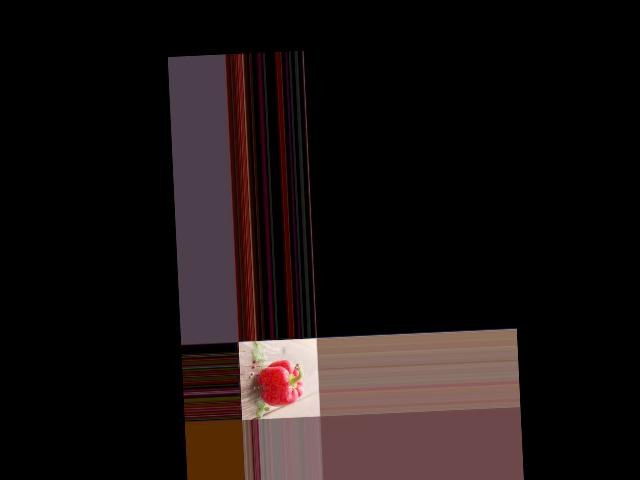bell_pepper: (255, 356, 308, 410)
